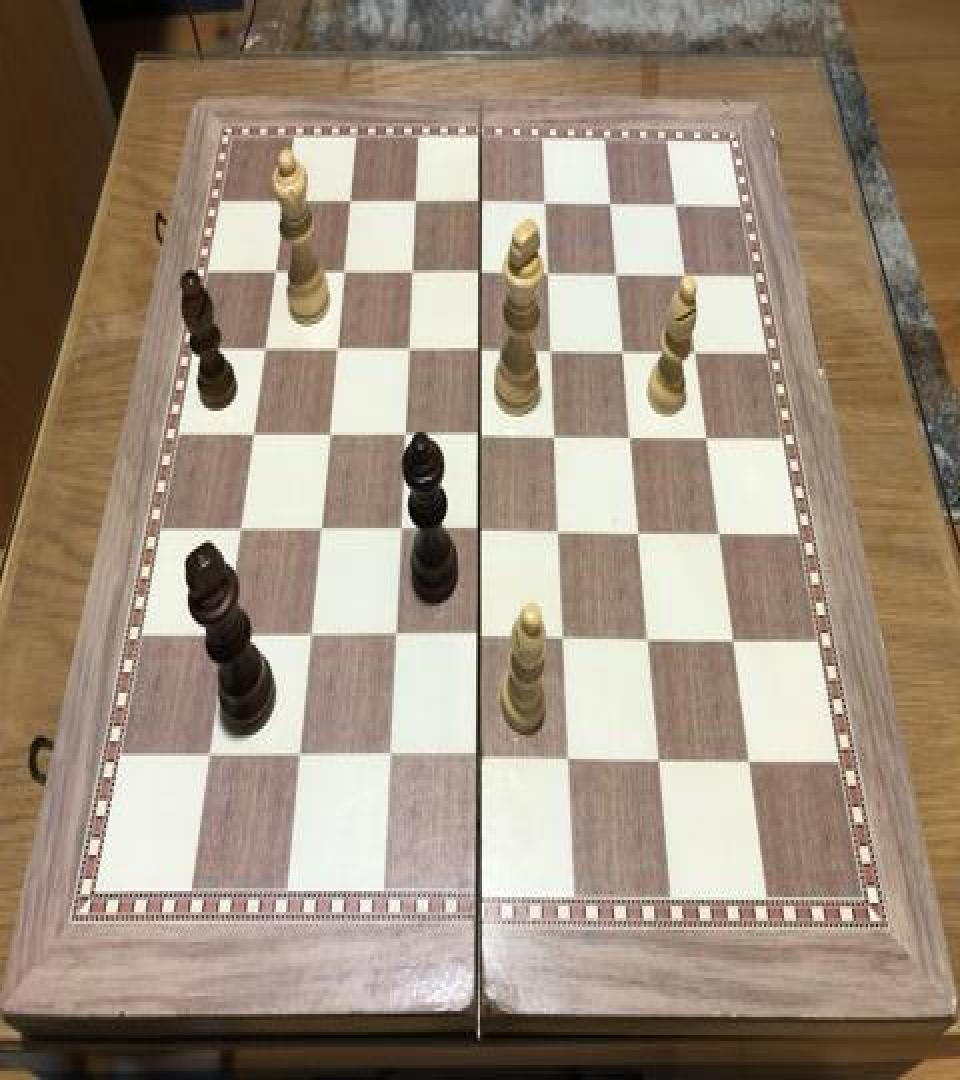xcorner: (553, 616, 577, 653), (469, 616, 493, 653), (738, 739, 762, 776), (648, 739, 672, 776), (197, 733, 221, 770), (664, 186, 688, 222), (599, 186, 623, 222), (534, 184, 558, 220), (470, 183, 494, 219), (405, 182, 429, 218), (340, 182, 364, 218), (275, 180, 299, 216), (673, 256, 697, 292), (605, 255, 629, 291), (537, 254, 561, 290), (470, 252, 494, 288), (402, 252, 426, 288), (334, 250, 358, 286), (265, 249, 289, 285), (683, 333, 707, 369), (612, 332, 636, 368), (541, 330, 565, 366), (326, 327, 350, 363), (255, 326, 279, 362), (695, 417, 719, 453), (620, 417, 644, 453), (544, 416, 568, 452), (469, 414, 493, 450), (243, 411, 267, 447), (708, 513, 732, 549), (628, 512, 652, 548), (549, 510, 573, 546), (469, 508, 493, 544), (389, 508, 413, 544), (309, 507, 333, 543), (229, 506, 253, 542), (722, 620, 746, 656), (638, 618, 662, 654), (384, 615, 408, 651), (299, 614, 323, 650), (214, 612, 238, 648), (558, 738, 582, 774), (468, 736, 492, 772), (378, 735, 402, 771), (287, 735, 311, 771), (469, 329, 493, 364), (398, 329, 422, 364), (394, 413, 418, 448), (318, 413, 342, 448)
